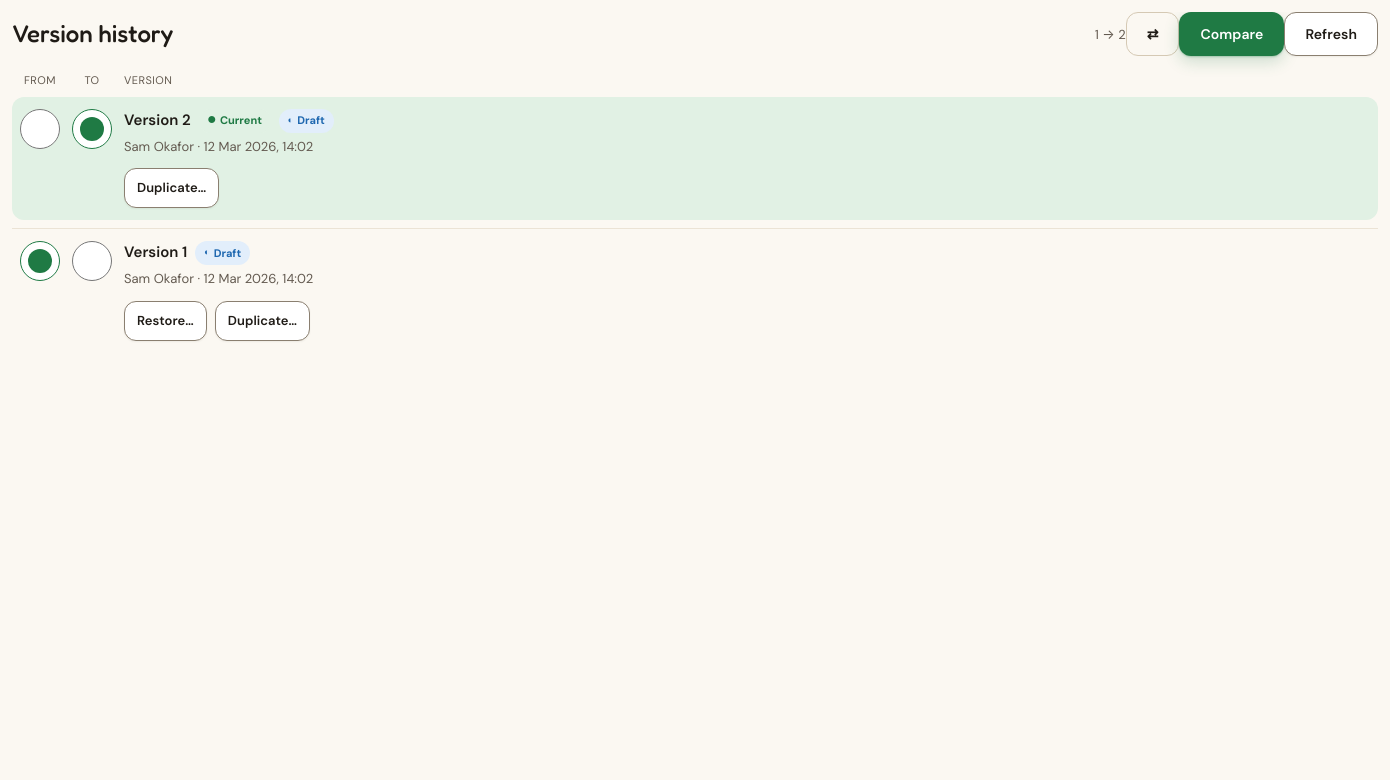
Test: RecipeHistoryComponent › renders the comparison the server returned for the chosen pair
Click the button "Compare" at (1232, 34), box [1180,12,1284,56]
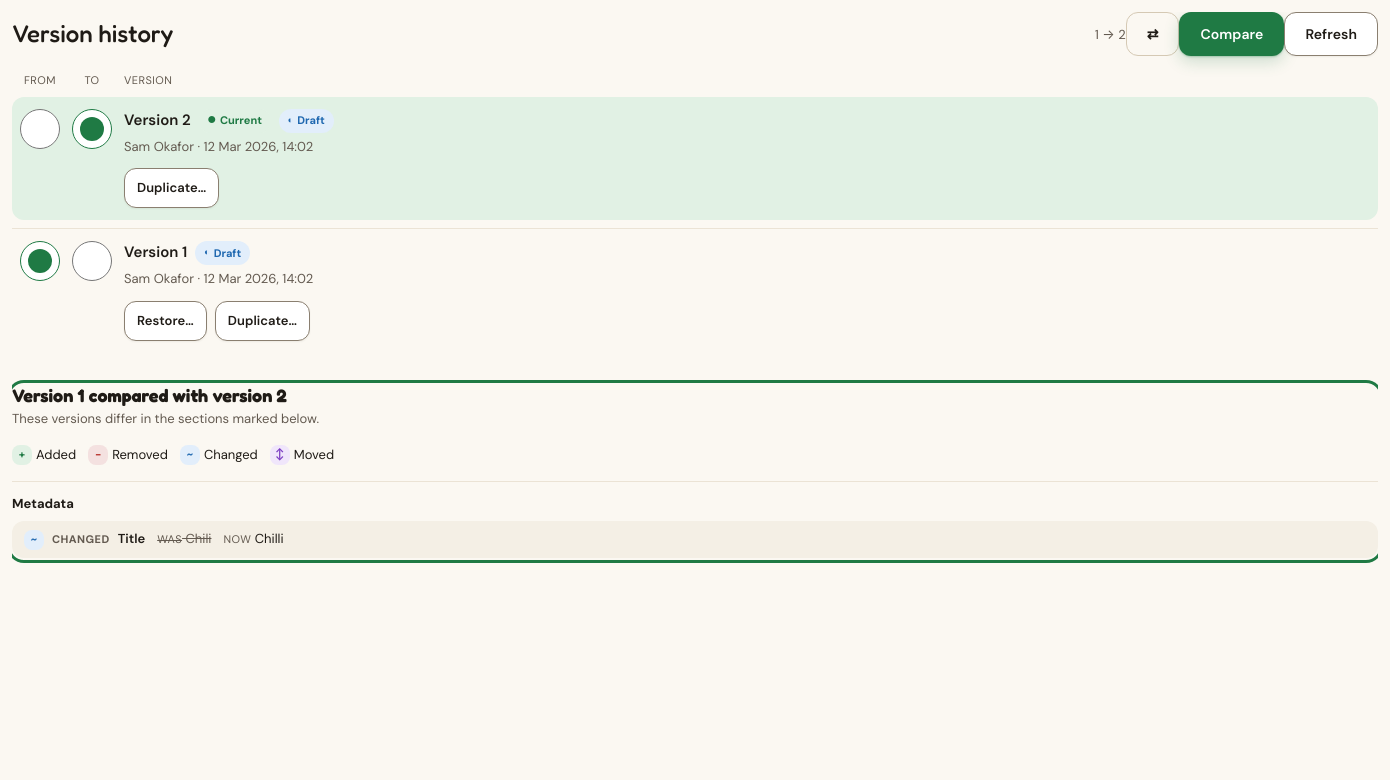
Expected: the element that starts with "Version 1 compared with version 2" is shown, [12,384,1378,558]
